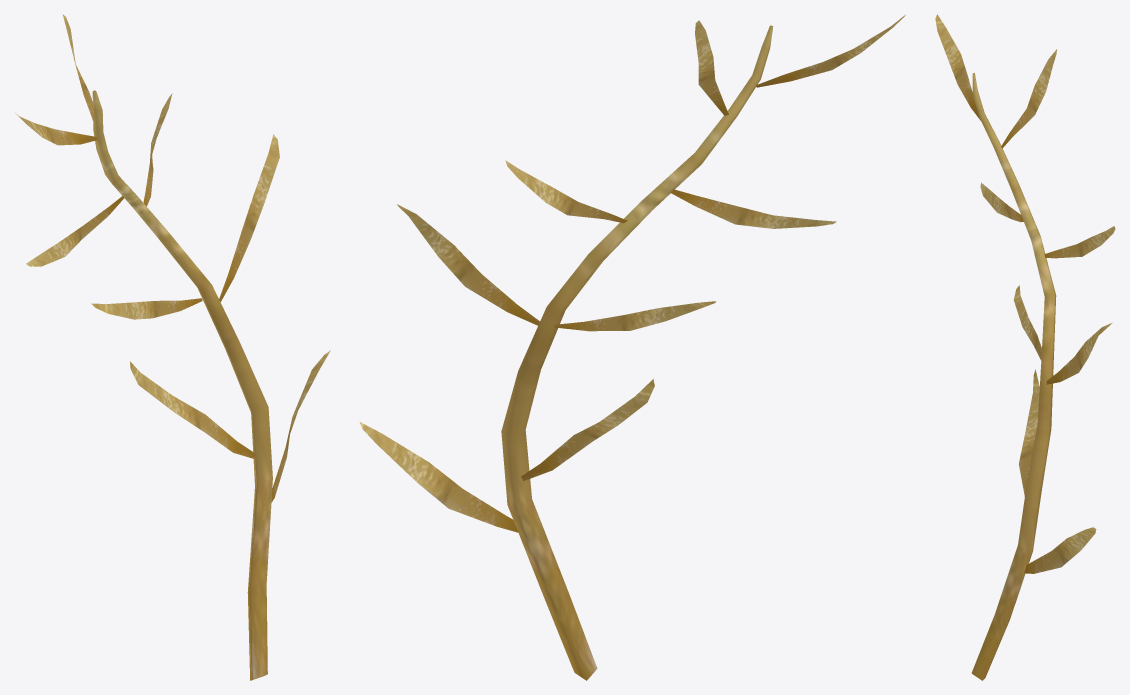
The model's file is kelp.glb.
3 views of the same model, side by side, from view 1: azimuth 30°, elevation 25°; view 2: azimuth 150°, elevation 25°; view 3: azimuth 270°, elevation 25° (orthographic). The views are drawn at different scales.
Visible parts, largest first — view 1: Cube; view 2: Cube; view 3: Cube.
Part boxes in pixels (x1=…): Cube: x1=15, y1=14, x2=330, y2=680; Cube: x1=360, y1=14, x2=905, y2=680; Cube: x1=935, y1=14, x2=1115, y2=680.
Bounding box in the file's own units: 0.6236 × 0.9785 × 0.2808.
Materials: 1 (1 with a texture image).
